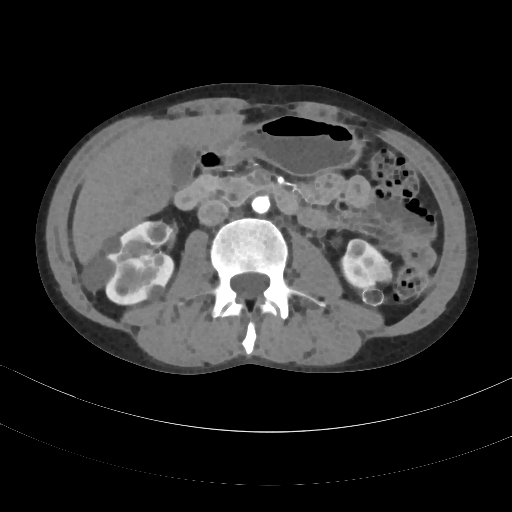Lesion: (367, 258, 395, 286)
